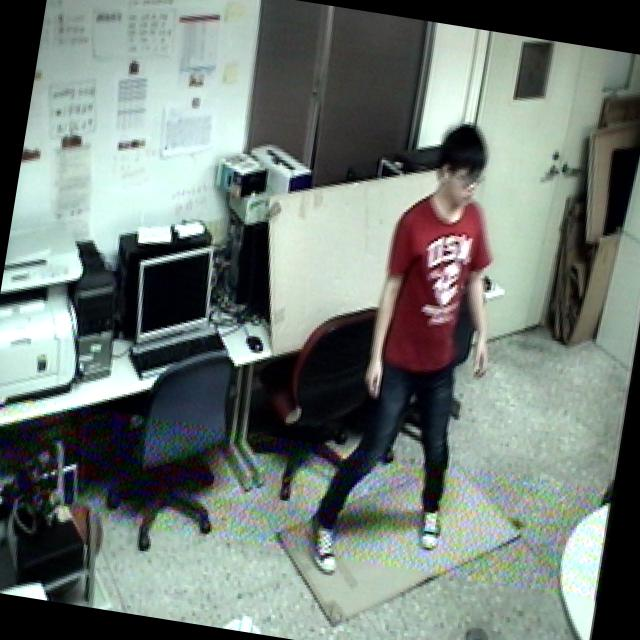stand: (294, 106, 532, 605)
